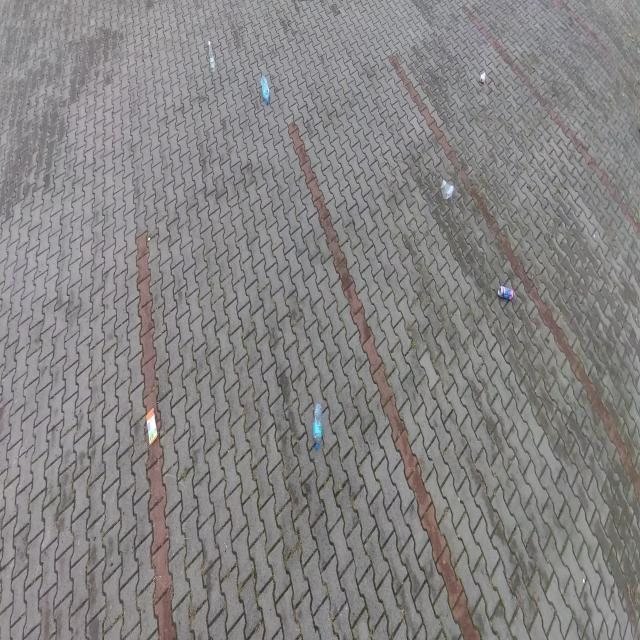rubbish: (145, 407, 158, 446), (313, 403, 323, 449), (440, 177, 454, 203), (260, 75, 271, 105), (497, 285, 515, 300), (208, 42, 215, 75), (480, 70, 486, 85)
